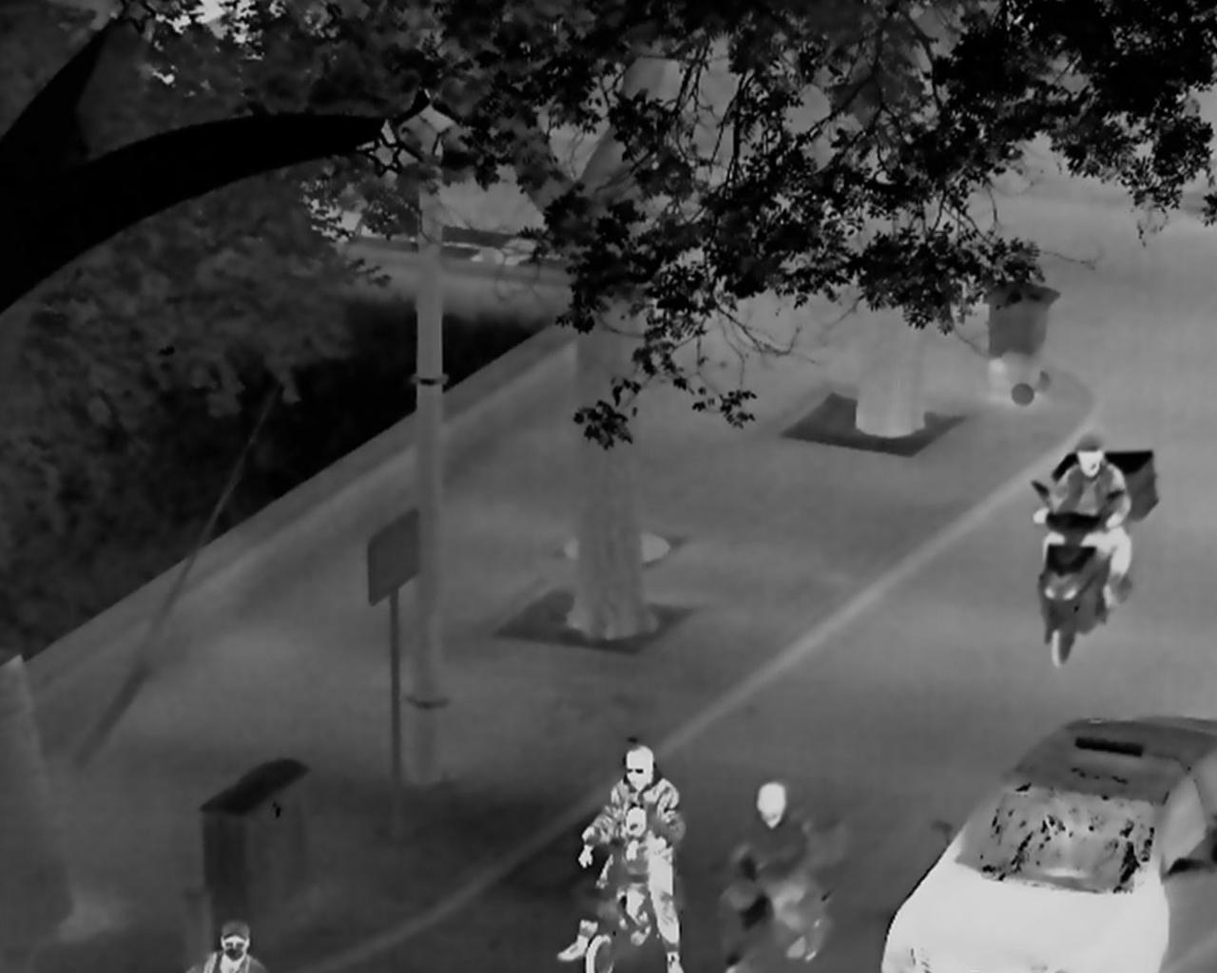person: (555, 737, 686, 973), (714, 781, 830, 960), (1030, 433, 1130, 612), (579, 808, 652, 945), (185, 918, 266, 973)
